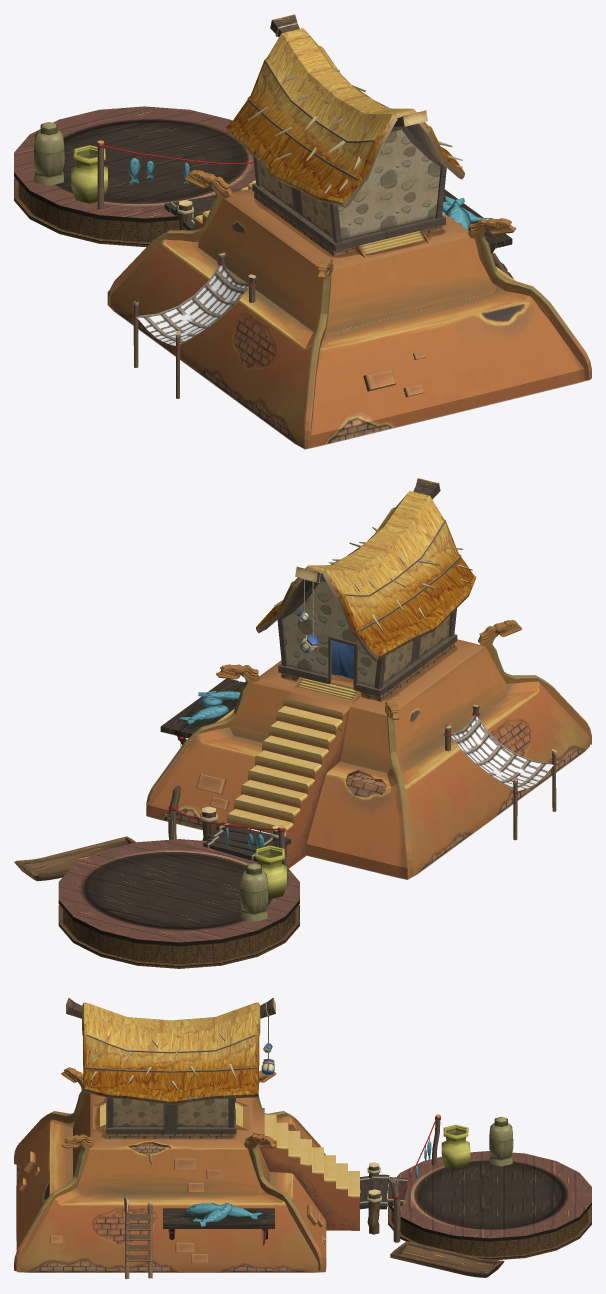
File: Fishing_Hut.fbx
3 renders of one model, top to bottom at view 1: azimuth 30°, elevation 25°; view 2: azimuth 150°, elevation 25°; view 3: azimuth 270°, elevation 25°, orthographic. The views are drawn at different scales.
Parts seen in each view (by area): view 1: Box001; view 2: Box001; view 3: Box001.
Part boxes in pixels (box(x1,y1,x2,y2)): Box001: box(14, 14, 591, 449); Box001: box(14, 478, 591, 968); Box001: box(14, 998, 591, 1279).
Bounding box in the file's own units: 127 × 91.01 × 220.
